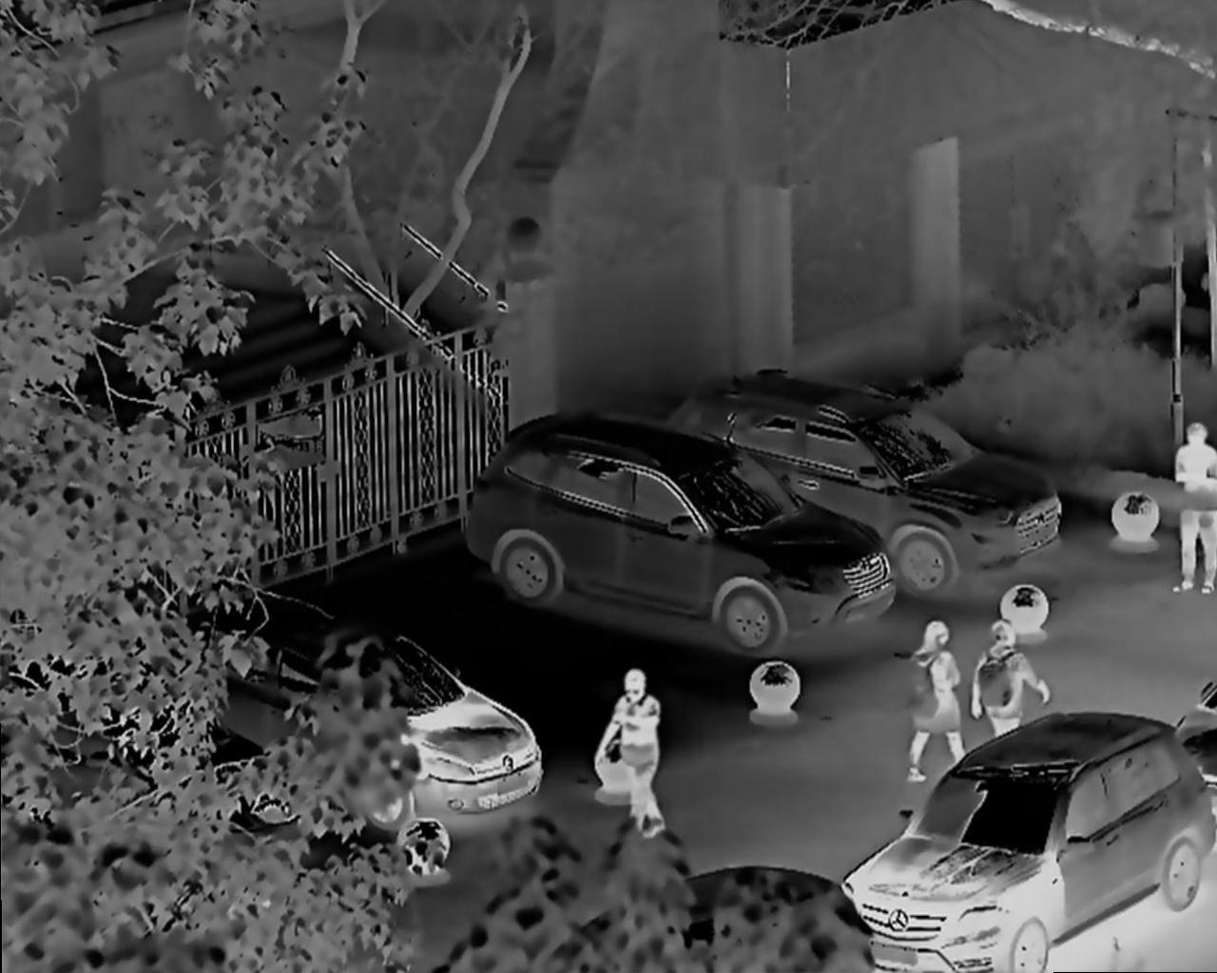person: (592, 663, 666, 831), (906, 614, 967, 773), (969, 618, 1048, 731), (1170, 416, 1217, 597)
